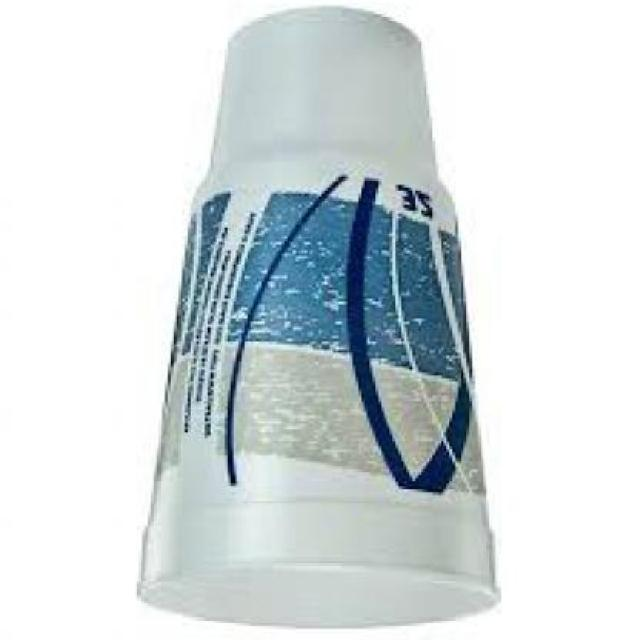PAPER: (134, 3, 492, 631)
